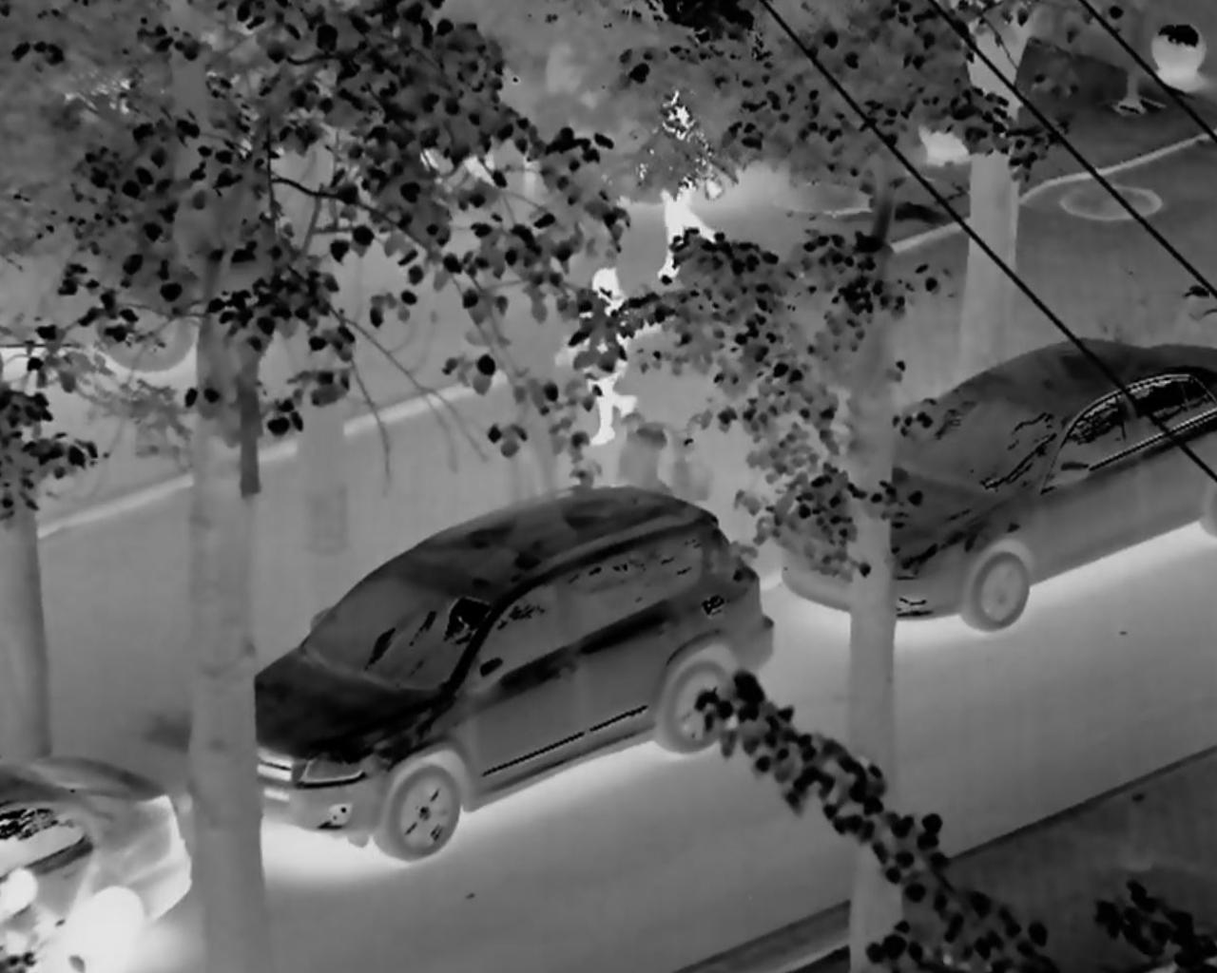person: (640, 92, 721, 273), (578, 264, 639, 443)
